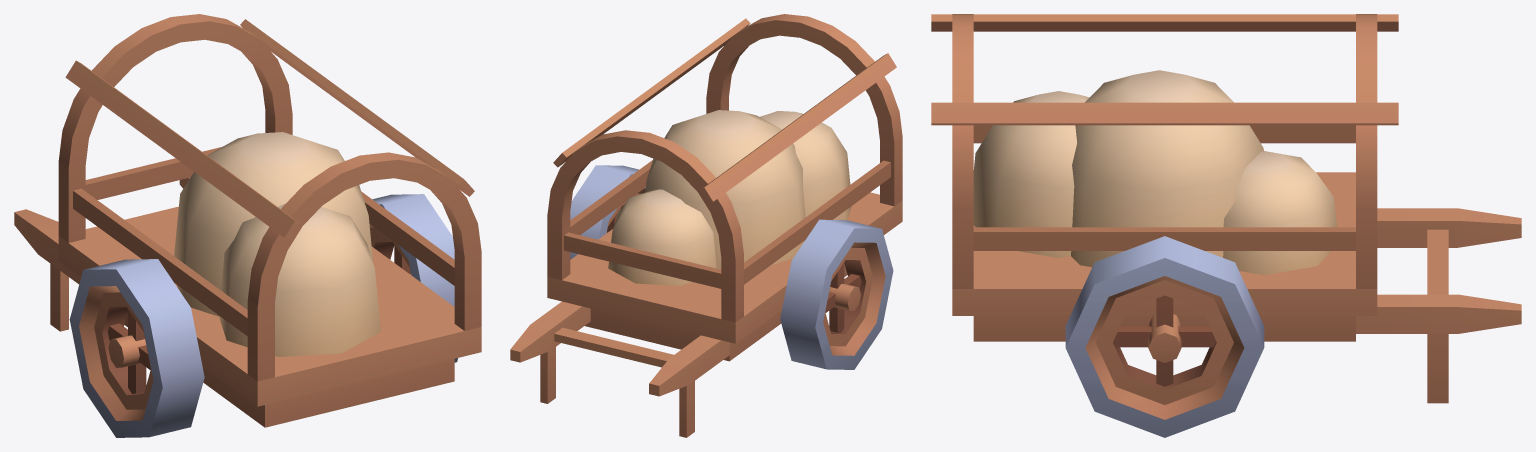
File: cart-high.glb
The picture shows the model from 3 angles, left to right: view 1: azimuth 30°, elevation 25°; view 2: azimuth 150°, elevation 25°; view 3: azimuth 270°, elevation 25°; orthographic projection. The views are drawn at different scales.
Visible parts, largest first — view 1: cart-high; view 2: cart-high; view 3: cart-high.
Part boxes in pixels (x1,y1,x2,y2): cart-high: (14,14,481,437); cart-high: (510,14,902,437); cart-high: (931,14,1521,437).
Bounding box in the file's own units: 0.893 × 0.8605 × 1.39.
Materials: 1 (1 with a texture image).
